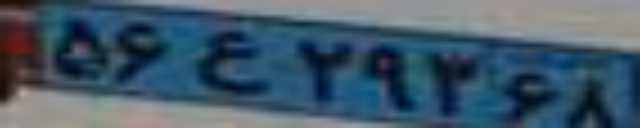2: (294, 38, 355, 101)
3: (428, 53, 482, 116)
5: (50, 16, 109, 78)
6: (113, 22, 168, 82), (501, 71, 558, 121)
8: (565, 80, 618, 127)
9: (365, 45, 415, 110)
ain: (191, 30, 271, 93)
